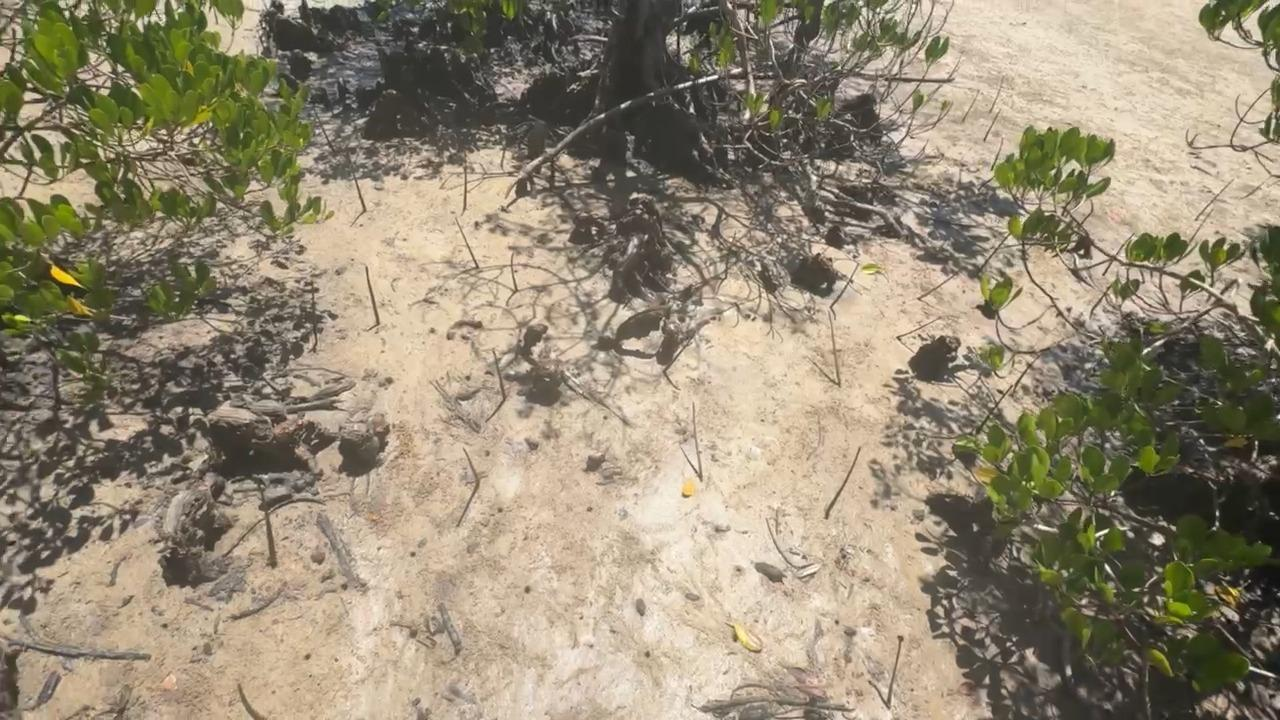Tree: (825, 446, 861, 520), (976, 384, 1013, 436), (258, 479, 279, 568), (1194, 178, 1234, 221), (917, 268, 961, 301), (1102, 232, 1135, 276), (829, 263, 860, 308), (977, 233, 1011, 273), (455, 217, 480, 269), (887, 635, 904, 710), (662, 334, 695, 372), (346, 151, 366, 213), (1011, 356, 1041, 396), (237, 681, 266, 720), (896, 316, 942, 339), (313, 108, 336, 152), (365, 266, 381, 325), (1188, 208, 1213, 245), (692, 401, 703, 482), (1239, 176, 1272, 201), (1089, 284, 1111, 320), (828, 310, 838, 387), (463, 446, 480, 487), (493, 350, 506, 401), (724, 231, 737, 280), (983, 108, 1001, 143), (989, 75, 1005, 114), (962, 89, 980, 123), (990, 137, 1004, 172), (311, 279, 318, 346), (499, 135, 510, 169), (510, 252, 518, 292), (463, 148, 468, 210), (978, 176, 995, 192), (1267, 179, 1280, 188)
